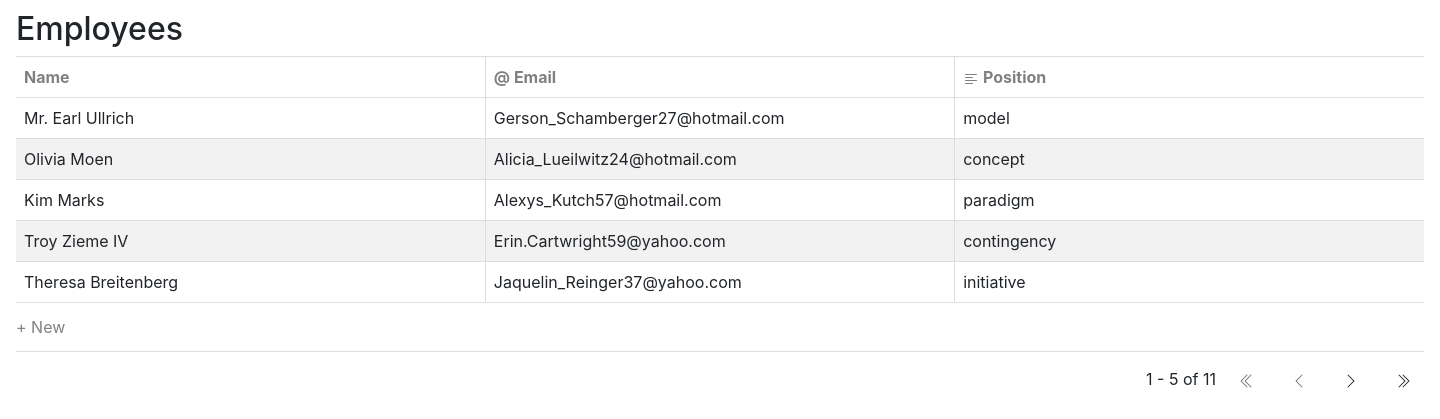
Test: Integration test Table › When click Next button
The image size is (1440, 419).
Check: the text "Mr. Earl Ullrich" is shown, box [16, 98, 485, 139]
What coordinates should you click on to do the following:
click the button with class "next"
I would click on:
 (1351, 379)
Its box is [1330, 360, 1372, 398].
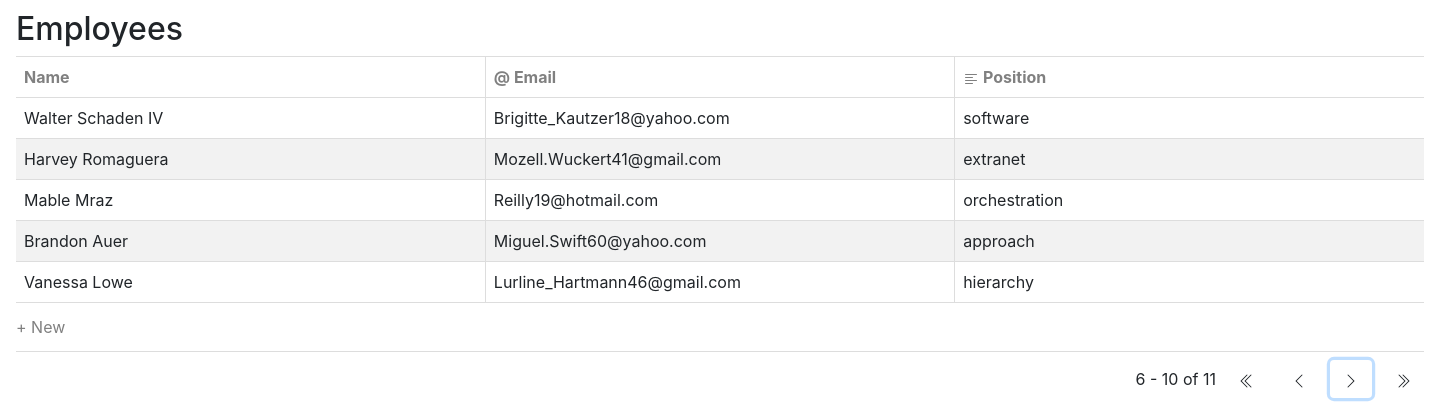
Check: the text "Walter Schaden IV" is shown, box [16, 98, 485, 139]
